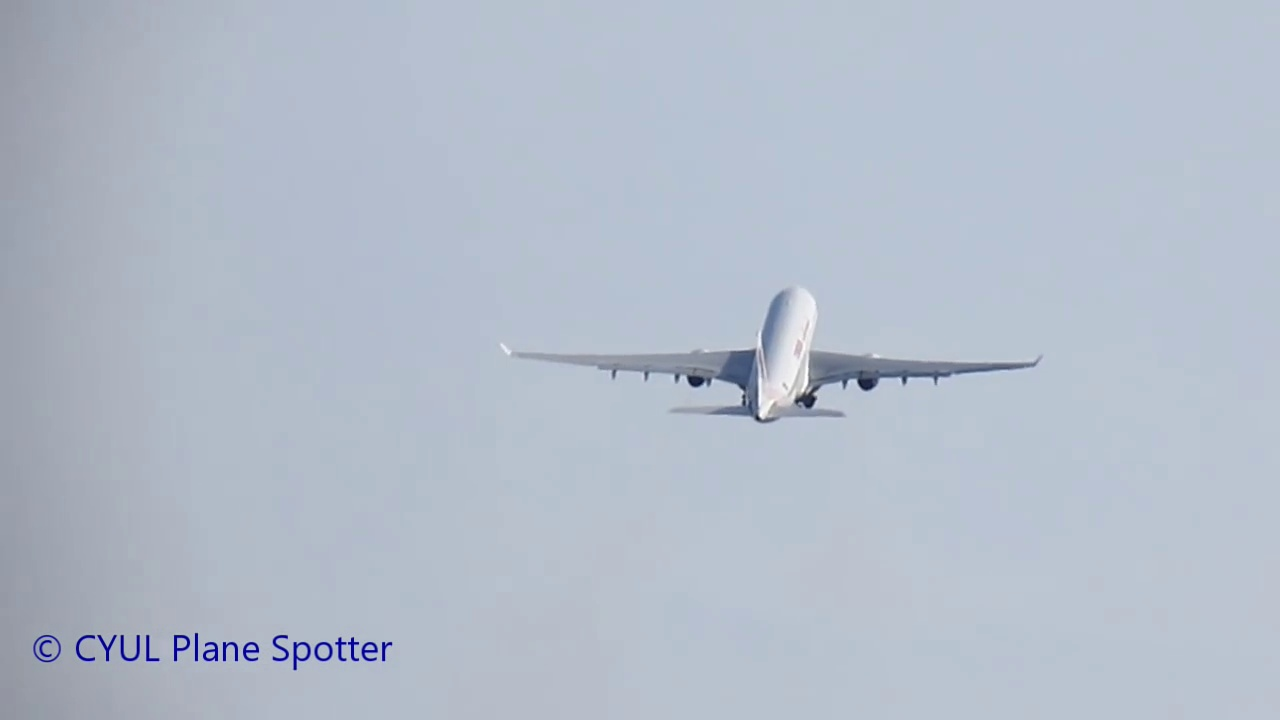Airplane: (499, 279, 1052, 428)
